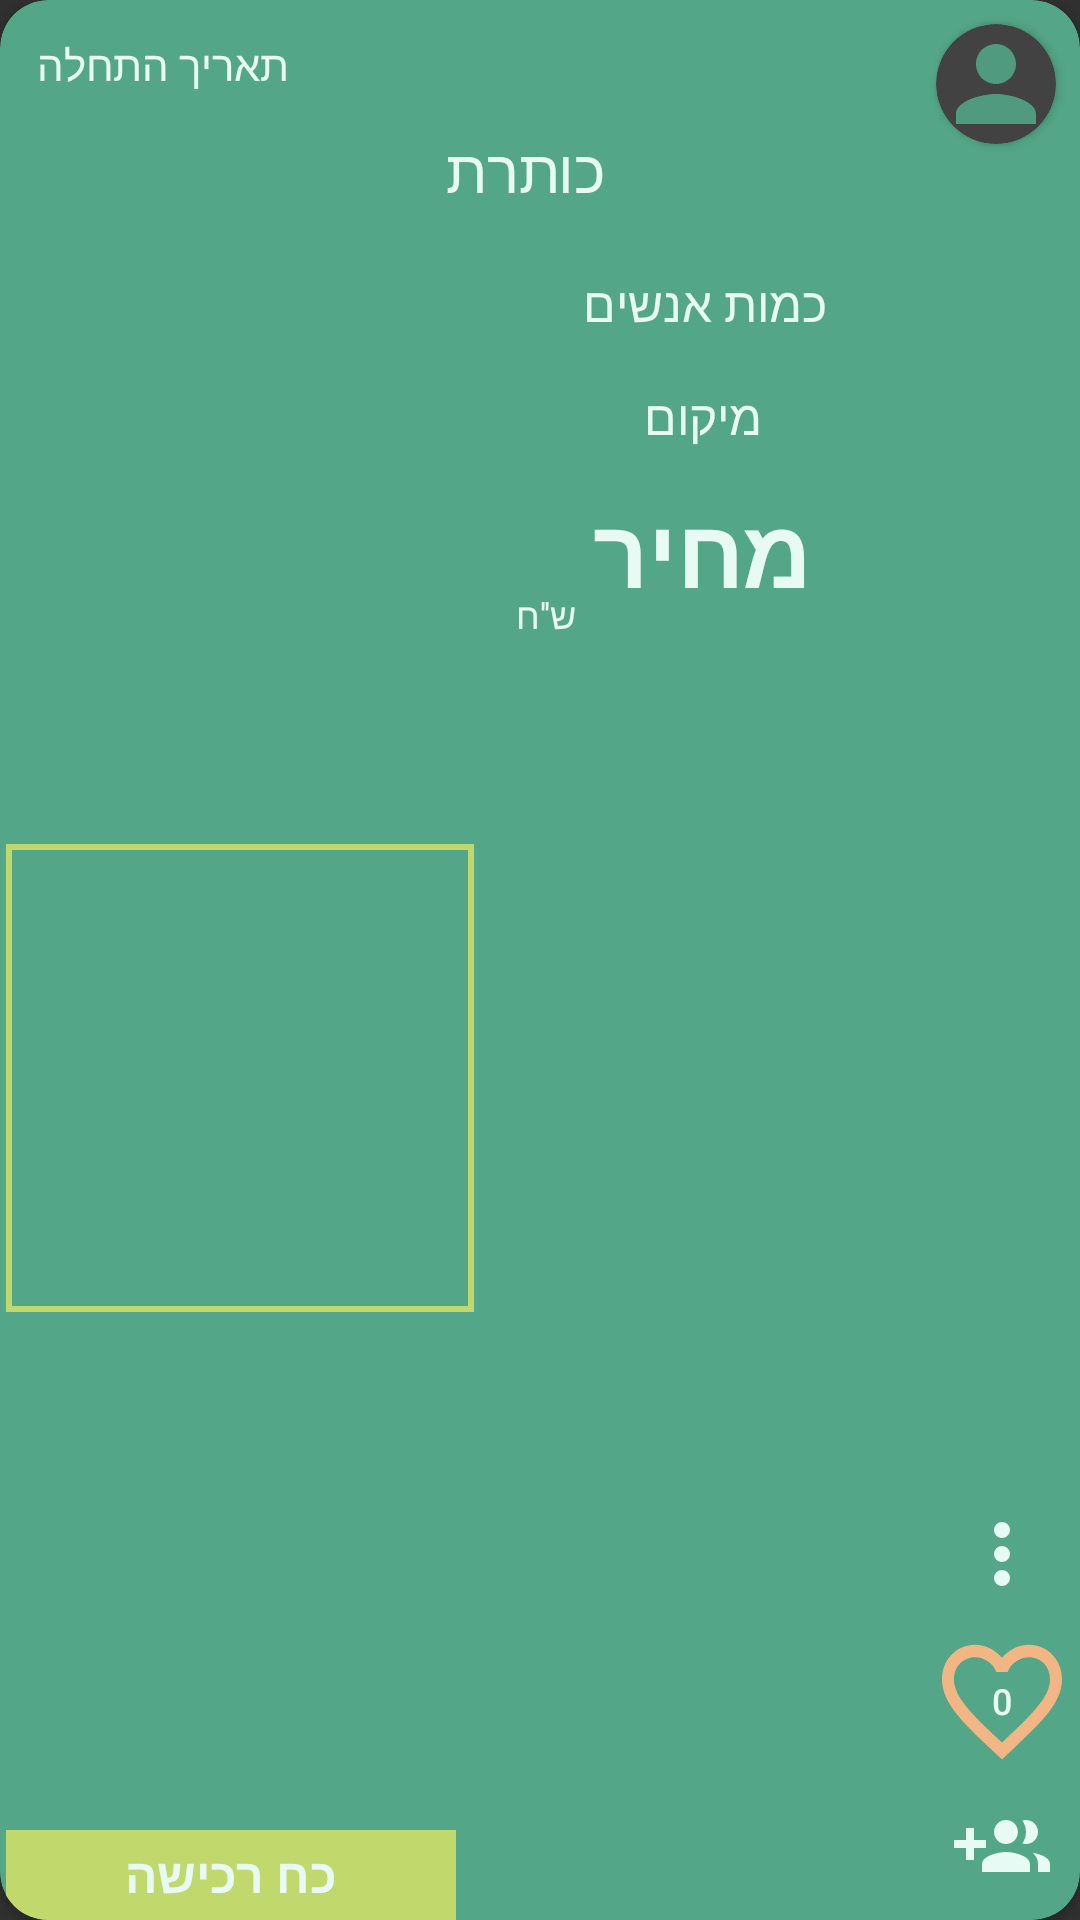

Named icons in this screenshot (1080px x 1920px) and their centers, (x=x, y=y):
group add: (x=1002, y=1846)
person: (x=996, y=84)
post option: (x=1002, y=1554)
